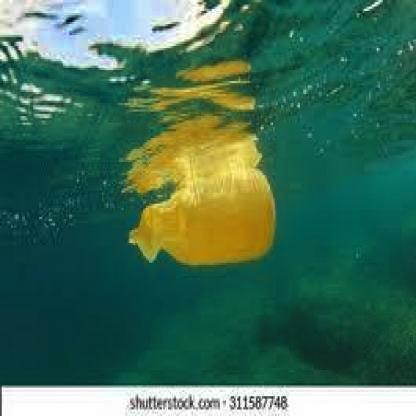plastic: (105, 162, 289, 265)
